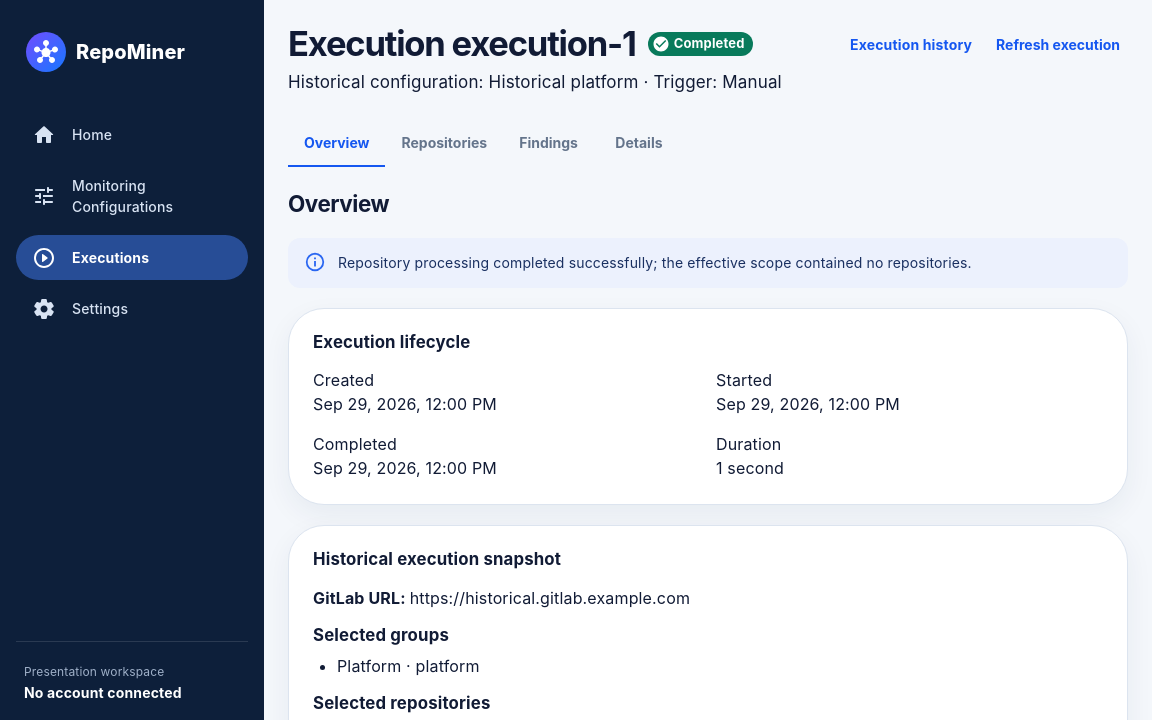
it: renders persisted repository summaries and safe failures from repository history
Check: the heading "Execution execution-1" is shown, box x1=288 y1=24 x2=636 y2=64
Click the tab "Repositories" at (444, 143), box x1=385 y1=119 x2=503 y2=167
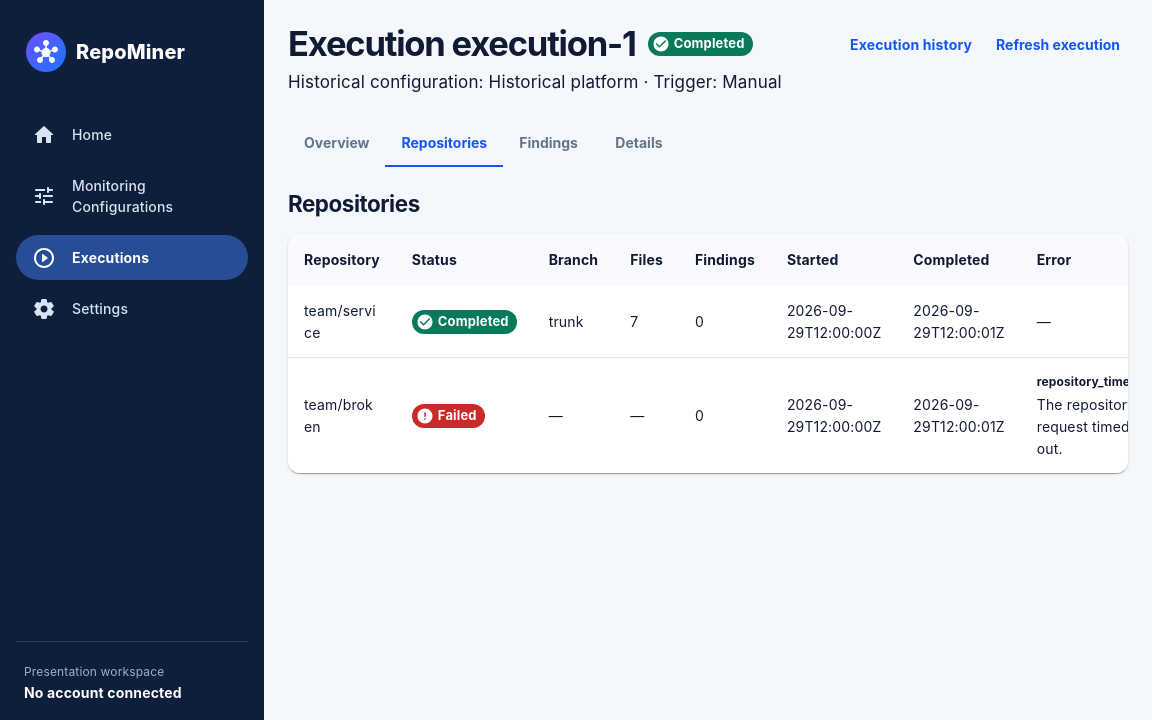
Check: the table named "Repository processing results" is shown, box x1=288 y1=234 x2=1128 y2=473
Check: the text "team/service" is shown, box x1=288 y1=286 x2=396 y2=358
Check: the text "trunk" is shown, box x1=533 y1=286 x2=614 y2=358
